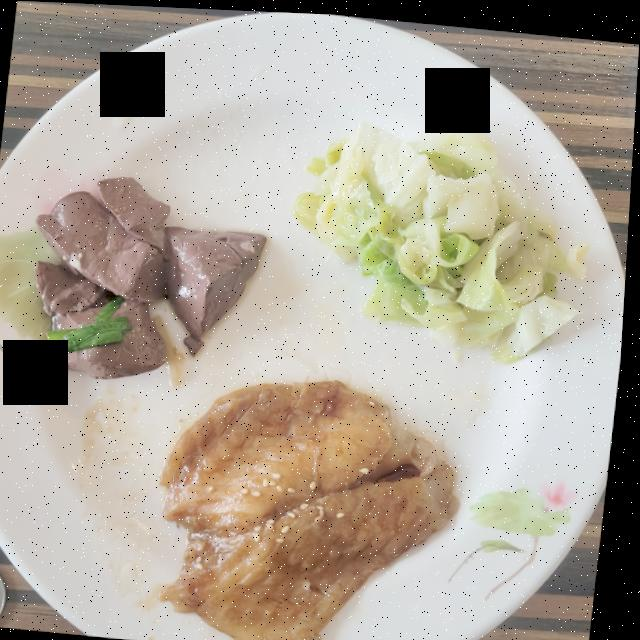Kabayaki sea bream fillet: (166, 377, 464, 640)
cabbage: (294, 116, 591, 359)
coin: (0, 570, 12, 623)
pig blood curd: (38, 176, 268, 378)
